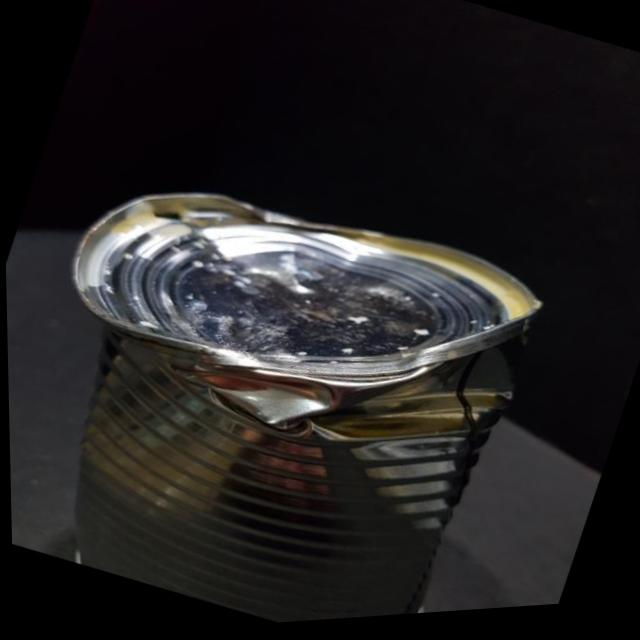metal: (7, 196, 598, 619)
